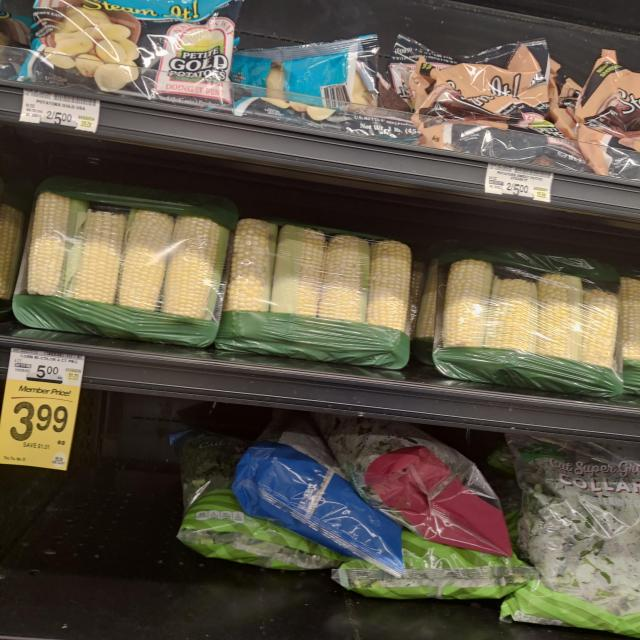Corn: (14, 185, 237, 344), (224, 207, 423, 375), (444, 250, 628, 401)
Salad: (497, 446, 640, 624)
